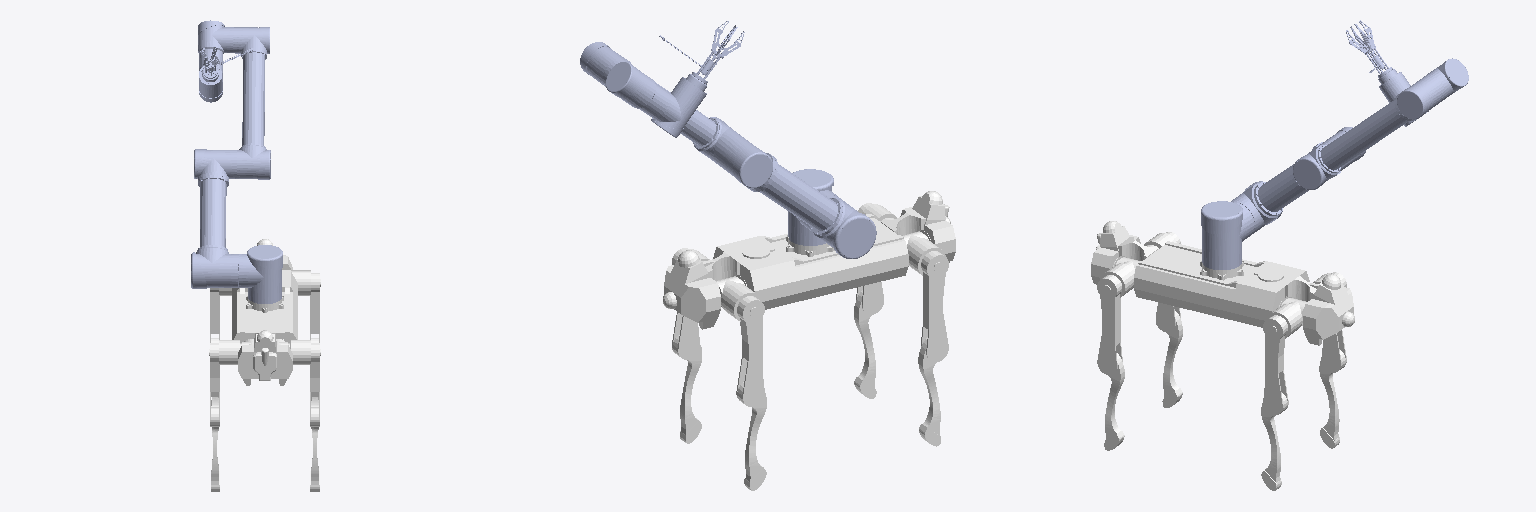
The robot description file, URDF, robot "robot_arm_urdf":
<?xml version="1.0" encoding="utf-8"?>
<!-- This URDF was automatically created by SolidWorks to URDF Exporter! Originally created by [author] ([email redacted]) 
     Commit Version: 1.5.1-0-g916b5db  Build Version: 1.5.7152.31018
     For more information, please see http://wiki.ros.org/sw_urdf_exporter -->
<robot
  name="robot_arm_urdf">

  <link name="world"/>

  <joint name="base_joint" type="fixed">
    <parent link="world"/>
    <child link="base_link"/>
    <origin rpy="0 0 0" xyz="0.0 0.0 0.645"/>
  </joint>
  
  <link
    name="base_link">
    <inertial>
      <origin
        xyz="0.00463530894606606 0.00802870790552011 -0.0799989611684098"
        rpy="0 0 0" />
      <mass
        value="28.639637162729" />
      <inertia
        ixx="1.02069493877252"
        ixy="-0.492377946135701"
        ixz="-0.00403480306156974"
        iyy="0.452144725500823"
        iyz="-0.00698871110543418"
        izz="1.31772255712572" />
    </inertial>
    <visual>
      <origin
        xyz="0 0 0"
        rpy="0 0 0" />
      <geometry>
        <mesh
          filename="package://dog_base_urdf/meshes/base_link.STL" />
      </geometry>
      <material
        name="">
        <color
          rgba="1 1 1 1" />
      </material>
    </visual>
    <collision>
      <origin
        xyz="0 0 0"
        rpy="0 0 0" />
      <geometry>
        <mesh
          filename="package://dog_base_urdf/meshes/base_link.STL" />
      </geometry>
    </collision>
  </link>

  <link
    name="Link 1">
    <inertial>
      <origin
        xyz="0.00693529911192451 -0.0968008731543303 -0.0116079401346998"
        rpy="0 0 0" />
      <mass
        value="1.40763156431571" />
      <inertia
        ixx="0.00381378325949543"
        ixy="0.00036502460765105"
        ixz="0.000179532988104023"
        iyy="0.00434025844622671"
        iyz="-0.00061097170653452"
        izz="0.00362056432496068" />
    </inertial>
    <visual>
      <origin
        xyz="0 0 0"
        rpy="0 0 0" />
      <geometry>
        <mesh
          filename="package://dog_base_urdf/meshes/Link 1.STL" />
      </geometry>
      <material
        name="">
        <color
          rgba="0.792156862745098 0.819607843137255 0.933333333333333 1" />
      </material>
    </visual>
    <collision>
      <origin
        xyz="0 0 0"
        rpy="0 0 0" />
      <geometry>
        <mesh
          filename="package://dog_base_urdf/meshes/Link 1.STL" />
      </geometry>
    </collision>
  </link>
  <joint
    name="joint_1"
    type="revolute">
    <origin
      xyz="0 0 0.00499999999999989"
      rpy="-1.5707963267949 0 1.03225378729628" />
    <parent
      link="base_link" />
    <child
      link="Link 1" />
    <axis
      xyz="0 -1 0" />
    <limit
      lower="-3.142"
      upper="3.142"
      effort="300"
      velocity="6" />
  </joint>
  <link
    name="Link 2">
    <inertial>
      <origin
        xyz="-0.150029751441806 0.0896948617433049 -0.186673336742885"
        rpy="0 0 0" />
      <mass
        value="3.3150572676576" />
      <inertia
        ixx="0.011311210182033"
        ixy="-0.000591961119606351"
        ixz="-0.000116312948423849"
        iyy="0.0106745097850616"
        iyz="6.87285447005491E-05"
        izz="0.00624130904651367" />
    </inertial>
    <visual>
      <origin
        xyz="0 0 0"
        rpy="0 0 0" />
      <geometry>
        <mesh
          filename="package://dog_base_urdf/meshes/Link 2.STL" />
      </geometry>
      <material
        name="">
        <color
          rgba="0.792156862745098 0.819607843137255 0.933333333333333 1" />
      </material>
    </visual>
    <collision>
      <origin
        xyz="0 0 0"
        rpy="0 0 0" />
      <geometry>
        <mesh
          filename="package://dog_base_urdf/meshes/Link 2.STL" />
      </geometry>
    </collision>
  </link>
  <joint
    name="joint_2"
    type="revolute">
    <origin
      xyz="0 -0.135 0"
      rpy="-2.71599956230961 -1.57079631189374 1.99638941807508" />
    <parent
      link="Link 1" />
    <child
      link="Link 2" />
    <axis
      xyz="0.858457103030291 -0.512885369509446 0" />
    <limit
      lower="-1.571"
      upper="1.571"
      effort="300"
      velocity="6" />
  </joint>
  <link
    name="Link 3">
    <inertial>
      <origin
        xyz="-0.033689536408642 0.0563674540836177 0.33235240342203"
        rpy="0 0 0" />
      <mass
        value="1.58685687935599" />
      <inertia
        ixx="0.00693436924984748"
        ixy="-0.000192873769015718"
        ixz="-3.41134757974382E-06"
        iyy="0.00714207093389545"
        iyz="4.74695181011071E-06"
        izz="0.00243782307446069" />
    </inertial>
    <visual>
      <origin
        xyz="0 0 0"
        rpy="0 0 0" />
      <geometry>
        <mesh
          filename="package://dog_base_urdf/meshes/Link 3.STL" />
      </geometry>
      <material
        name="">
        <color
          rgba="0.792156862745098 0.819607843137255 0.933333333333333 1" />
      </material>
    </visual>
    <collision>
      <origin
        xyz="0 0 0"
        rpy="0 0 0" />
      <geometry>
        <mesh
          filename="package://dog_base_urdf/meshes/Link 3.STL" />
      </geometry>
    </collision>
  </link>
  <joint
    name="joint_3"
    type="revolute">
    <origin
      xyz="0 0 -0.444"
      rpy="3.14159265358979 0 -1.57079632679489" />
    <parent
      link="Link 2" />
    <child
      link="Link 3" />
    <axis
      xyz="0.512885369509465 -0.858457103030279 0" />
    <limit
      lower="-2.356"
      upper="2.356"
      effort="300"
      velocity="6" />
  </joint>
  <link
    name="Link 4">
    <inertial>
      <origin
        xyz="-0.105489040678588 -0.0478569058317946 -0.257451351897279"
        rpy="0 0 0" />
      <mass
        value="0.884734788638594" />
      <inertia
        ixx="0.00191243090889954"
        ixy="-0.000198122617561153"
        ixz="-0.000120001423381376"
        iyy="0.00155855865050904"
        iyz="-0.000331659424403815"
        izz="0.00178526070697811" />
    </inertial>
    <visual>
      <origin
        xyz="0 0 0"
        rpy="0 0 0" />
      <geometry>
        <mesh
          filename="package://dog_base_urdf/meshes/Link 4.STL" />
      </geometry>
      <material
        name="">
        <color
          rgba="0.792156862745098 0.819607843137255 0.933333333333333 1" />
      </material>
    </visual>
    <collision>
      <origin
        xyz="0 0 0"
        rpy="0 0 0" />
      <geometry>
        <mesh
          filename="package://dog_base_urdf/meshes/Link 4.STL" />
      </geometry>
    </collision>
  </link>
  <joint
    name="joint_4"
    type="revolute">
    <origin
      xyz="0 -0.0807901393343303 0.518000000000001"
      rpy="1.5707963267949 0 0" />
    <parent
      link="Link 3" />
    <child
      link="Link 4" />
    <axis
      xyz="-0.512885369509445 0 -0.858457103030291" />
    <limit
      lower="-3.142"
      upper="3.142"
      effort="300"
      velocity="6" />
  </joint>
  <link
    name="Link 5">
    <inertial>
      <origin
        xyz="-0.380771403610955 -0.145304543439048 -0.0634725691412049"
        rpy="0 0 0" />
      <mass
        value="0.911162548469119" />
      <inertia
        ixx="0.00108727490605038"
        ixy="-4.42163542965196E-05"
        ixz="7.98193387484618E-05"
        iyy="0.00113491366739802"
        iyz="-0.000132527480166507"
        izz="0.000949609250555761" />
    </inertial>
    <visual>
      <origin
        xyz="0 0 0"
        rpy="0 0 0" />
      <geometry>
        <mesh
          filename="package://dog_base_urdf/meshes/Link 5.STL" />
      </geometry>
      <material
        name="">
        <color
          rgba="0.792156862745098 0.819607843137255 0.933333333333333 1" />
      </material>
    </visual>
    <collision>
      <origin
        xyz="0 0 0"
        rpy="0 0 0" />
      <geometry>
        <mesh
          filename="package://dog_base_urdf/meshes/Link 5.STL" />
      </geometry>
    </collision>
  </link>
  <joint
    name="joint_5"
    type="revolute">
    <origin
      xyz="0 -0.12 0.13521"
      rpy="-1.5708 -1.5708 0" />
    <parent
      link="Link 4" />
    <child
      link="Link 5" />
    <axis
      xyz="0 0 1" />
    <limit
      lower="-3.142"
      upper="3.142"
      effort="300"
      velocity="6" />
  </joint>
  <link
    name="Link 6">
    <!-- this is for closed claw, the other one is for open claw -->
    
    <!-- <inertial>
      <origin
        xyz="-0.00118020585558504 -0.0159149719261033 -0.00342180205165366"
        rpy="0 0 0" />
      <mass
        value="0.0733987958077739" />
      <inertia
        ixx="1.1380006467328E-05"
        ixy="9.25558899499417E-07"
        ixz="1.10405515931789E-06"
        iyy="1.57214863593949E-05"
        iyz="-4.47111004898457E-08"
        izz="1.46442413687236E-05" />
    </inertial>  -->
    <inertial>
      <origin
        xyz="0.327062358137029 0.420025700116675 -0.127549548657267"
        rpy="0 0 0" />
      <mass
        value="0.0733981065412194" />
      <inertia
        ixx="1.12778782885842E-05"
        ixy="-1.67990996390312E-07"
        ixz="-1.53467681919776E-06"
        iyy="1.59105887617276E-05"
        iyz="7.09296648946757E-07"
        izz="1.45570758923969E-05" />
    </inertial>
    <visual>
      <origin
        xyz="0 0 0"
        rpy="0 0 0" />
      <geometry>
        <mesh
          filename="package://dog_base_urdf/meshes/Link 6.STL" />
      </geometry>
      <material
        name="">
        <color
          rgba="0.792156862745098 0.819607843137255 0.933333333333333 1" />
      </material>
    </visual>
    <collision>
      <origin
        xyz="0 0 0"
        rpy="0 0 0" />
      <geometry>
        <mesh
          filename="package://dog_base_urdf/meshes/Link 6.STL" />
      </geometry>
    </collision>
  </link>
  <joint
    name="joint_6"
    type="revolute">
    <!-- these are for closed claw, the other one is for open claw  -->
    
    <!-- <origin
      xyz="0 0.180208975073821 -0.07"
      rpy="-0.372282107337962 -0.687462882680538 -2.83257743809968" />
    <parent
      link="Link 5" />
    <child
      link="Link 6" />
    <axis
      xyz="-0.235042225926605 -0.957575831382436 -0.16674435277905" />
     -->
    <origin
      xyz="0 0.18021 -0.07"
      rpy="-0.37228 -0.68746 -2.8326" />
    <parent
      link="Link 5" />
    <child
      link="Link 6" />
    <axis
      xyz="-0.17584 0.85455 0.48869" />
    
    <limit
      lower="-3.142"
      upper="3.142"
      effort="300"
      velocity="6" /> 
    
  </joint>

  <transmission name="link_1_trans">
    <type>transmission_interface/SimpleTransmission</type>
    <joint name="joint_1">
    <hardwareInterface>hardware_interface/PositionJointInterface</hardwareInterface>
    </joint>
    <actuator name="link_1_motor">
    <hardwareInterface>hardware_interface/PositionJointInterface</hardwareInterface>
    <mechanicalReduction>1</mechanicalReduction>
    </actuator>
  </transmission>

  <transmission name="link_2_trans">
    <type>transmission_interface/SimpleTransmission</type>
    <joint name="joint_2">
    <hardwareInterface>hardware_interface/PositionJointInterface</hardwareInterface>
    </joint>
    <actuator name="link_2_motor">
    <hardwareInterface>hardware_interface/PositionJointInterface</hardwareInterface>
    <mechanicalReduction>1</mechanicalReduction>
    </actuator>
  </transmission>

  <transmission name="link_3_trans">
    <type>transmission_interface/SimpleTransmission</type>
    <joint name="joint_3">
    <hardwareInterface>hardware_interface/PositionJointInterface</hardwareInterface>
    </joint>
    <actuator name="link_3_motor">
    <hardwareInterface>hardware_interface/PositionJointInterface</hardwareInterface>
    <mechanicalReduction>1</mechanicalReduction>
    </actuator>
  </transmission>

  <transmission name="link_4_trans">
    <type>transmission_interface/SimpleTransmission</type>
    <joint name="joint_4">
    <hardwareInterface>hardware_interface/PositionJointInterface</hardwareInterface>
    </joint>
    <actuator name="link_4_motor">
    <hardwareInterface>hardware_interface/PositionJointInterface</hardwareInterface>
    <mechanicalReduction>1</mechanicalReduction>
    </actuator>
  </transmission>

  <transmission name="link_5_trans">
    <type>transmission_interface/SimpleTransmission</type>
    <joint name="joint_5">
    <hardwareInterface>hardware_interface/PositionJointInterface</hardwareInterface>
    </joint>
    <actuator name="link_5_motor">
    <hardwareInterface>hardware_interface/PositionJointInterface</hardwareInterface>
    <mechanicalReduction>1</mechanicalReduction>
    </actuator>
  </transmission>

  <transmission name="link_6_trans">
    <type>transmission_interface/SimpleTransmission</type>
    <joint name="joint_6">
    <hardwareInterface>hardware_interface/PositionJointInterface</hardwareInterface>
    </joint>
    <actuator name="link_6_motor">
    <hardwareInterface>hardware_interface/PositionJointInterface</hardwareInterface>
    <mechanicalReduction>1</mechanicalReduction>
    </actuator>
  </transmission>

  <gazebo>
    <plugin name="control" filename="libgazebo_ros_control.so">
    <robotNamespace>/</robotNamespace>
    </plugin>
  </gazebo>

  <gazebo reference="Link 1">
	  <selfCollide>true</selfCollide>
  </gazebo>

  <gazebo reference="Link 2">
	  <selfCollide>true</selfCollide>
  </gazebo>

  <gazebo reference="Link 3">
	  <selfCollide>true</selfCollide>
  </gazebo>

  <gazebo reference="Link 4">
	  <selfCollide>true</selfCollide>
  </gazebo>

  <gazebo reference="Link 5">
	  <selfCollide>true</selfCollide>
  </gazebo>

  <gazebo reference="Link 6">
	  <selfCollide>true</selfCollide>
  </gazebo>

</robot>

--- Render facts (derived) ---
3 views of the same robot in one strip: view 1: azimuth 30°, elevation 25°; view 2: azimuth 150°, elevation 25°; view 3: azimuth 270°, elevation 25° (orthographic).
Model robot_arm_urdf with 8 links and 7 joints (6 revolute, 1 fixed), rooted at world, posed every joint at zero.
Visible links, largest first — view 1: base_link, Link 2, Link 3, Link 1, Link 4, Link 5; view 2: base_link, Link 2, Link 3, Link 4, Link 5, Link 1, Link 6; view 3: base_link, Link 3, Link 1, Link 2, Link 4, Link 6, Link 5.
Link boxes in pixels (x1=…): base_link: x1=209, y1=239, x2=320, y2=491; Link 2: x1=191, y1=149, x2=238, y2=288; Link 3: x1=233, y1=27, x2=270, y2=179; Link 1: x1=239, y1=245, x2=282, y2=303; Link 4: x1=198, y1=20, x2=233, y2=67; Link 5: x1=199, y1=65, x2=222, y2=102; base_link: x1=663, y1=191, x2=955, y2=490; Link 2: x1=714, y1=133, x2=876, y2=258; Link 3: x1=580, y1=42, x2=739, y2=163; Link 4: x1=603, y1=60, x2=669, y2=116; Link 5: x1=651, y1=74, x2=706, y2=137; Link 1: x1=788, y1=169, x2=837, y2=245; Link 6: x1=659, y1=21, x2=744, y2=84; base_link: x1=1091, y1=221, x2=1354, y2=490; Link 3: x1=1293, y1=76, x2=1444, y2=189; Link 1: x1=1201, y1=201, x2=1254, y2=269; Link 2: x1=1231, y1=127, x2=1365, y2=233; Link 4: x1=1424, y1=58, x2=1468, y2=99; Link 6: x1=1346, y1=20, x2=1392, y2=77; Link 5: x1=1378, y1=69, x2=1428, y2=126.
Size in the robot's own frame: 0.7621 by 1.24 by 1.55 metres.
7 mesh visuals loaded from 7 distinct referenced files (7 binary STL).